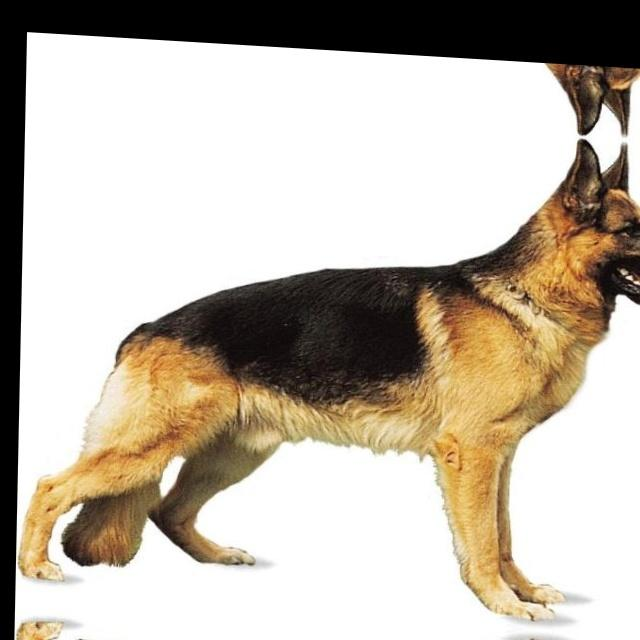dog: (15, 102, 640, 639), (26, 32, 640, 144), (14, 598, 640, 640)
